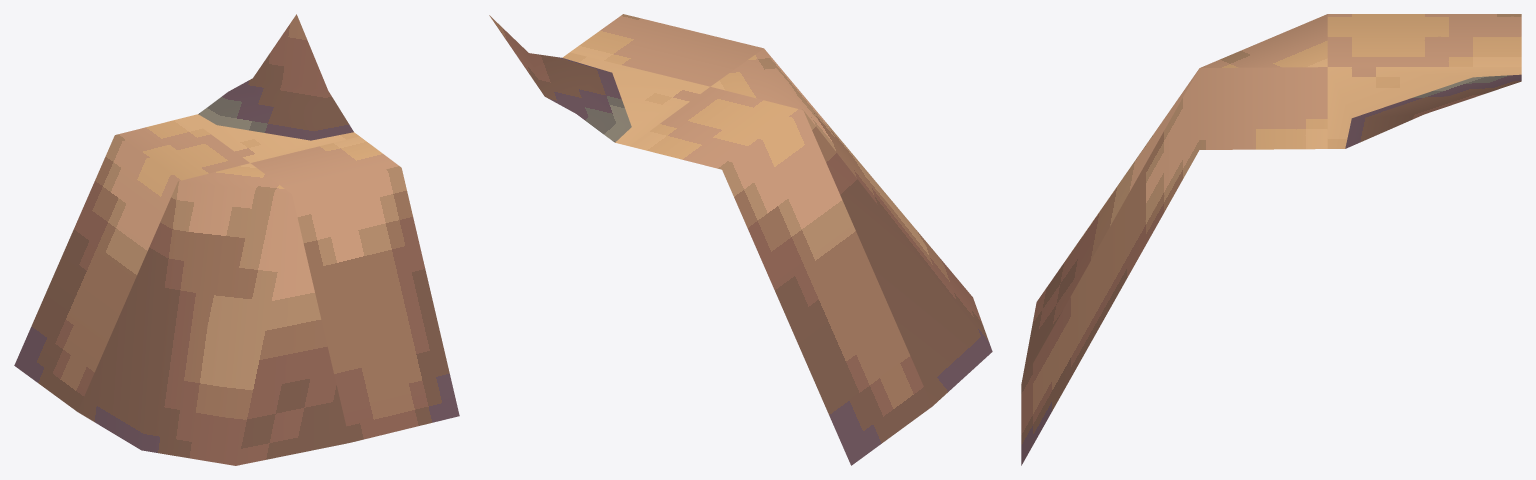
3 renders of one model, left to right at view 1: azimuth 30°, elevation 25°; view 2: azimuth 150°, elevation 25°; view 3: azimuth 270°, elevation 25°, orthographic. The views are drawn at different scales.
Size of the model in its own units: 1.29 by 1.23 by 1.29.
Materials: 3 (3 with a texture image).
